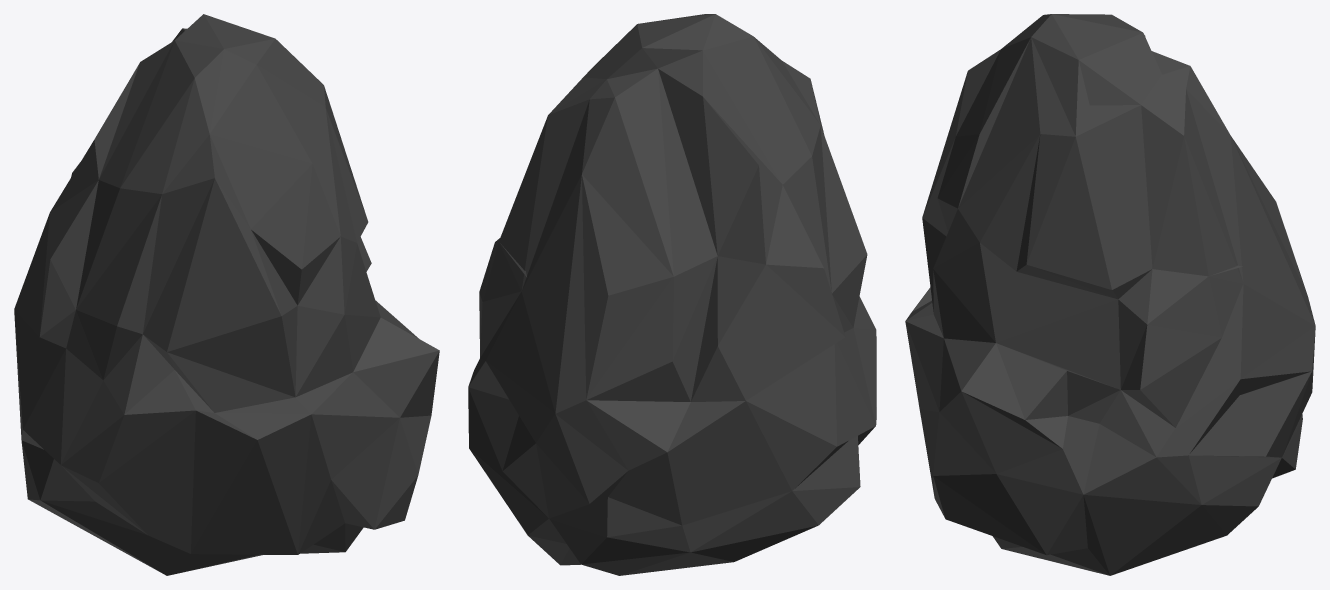
Rendered from stoun_14.fbx.
The picture shows the model from 3 angles, left to right: view 1: azimuth 30°, elevation 25°; view 2: azimuth 150°, elevation 25°; view 3: azimuth 270°, elevation 25°; orthographic projection. The views are drawn at different scales.
Parts seen in each view (by area): view 1: Object.020; view 2: Object.020; view 3: Object.020.
Boxes of the visible parts, <box> form: Object.020: <box>14,14,439,575</box>; Object.020: <box>468,14,876,575</box>; Object.020: <box>905,14,1315,575</box>.
Size of the model in its own units: 184 by 246 by 185.
